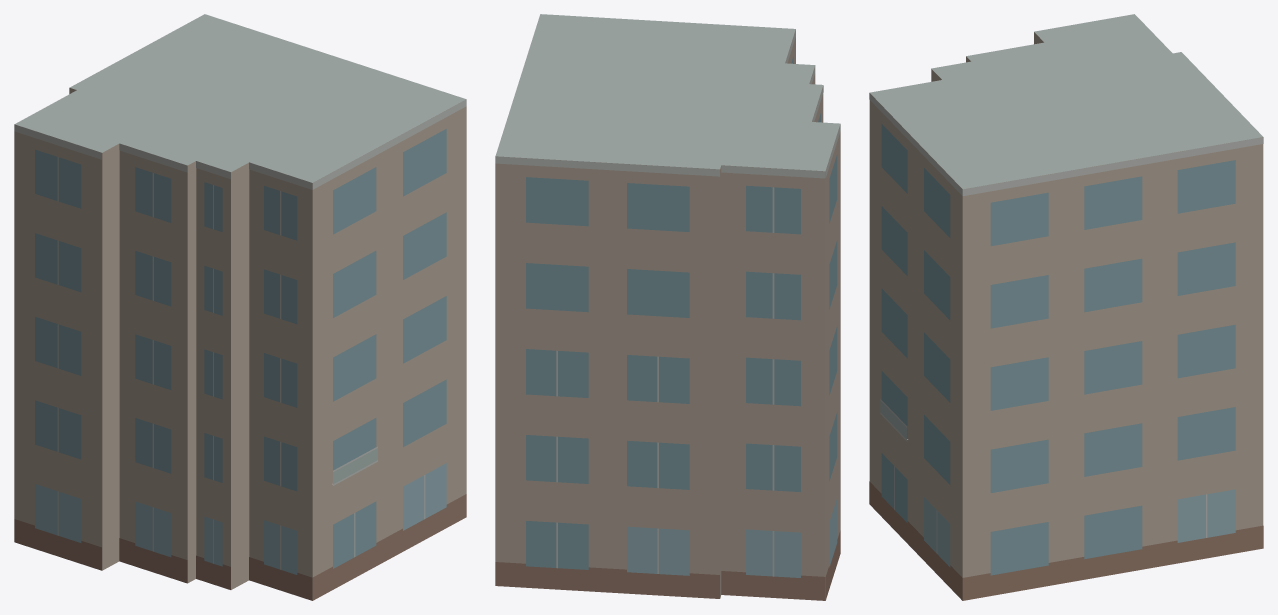
Rendered from survey-upis-33027126.glb.
3 views of the same model, side by side, from view 1: azimuth 30°, elevation 25°; view 2: azimuth 150°, elevation 25°; view 3: azimuth 270°, elevation 25° (orthographic). The views are drawn at different scales.
Visible parts, largest first — view 1: survey-upis-33027126.tmp; view 2: survey-upis-33027126.tmp; view 3: survey-upis-33027126.tmp.
Part boxes in pixels (<box>): survey-upis-33027126.tmp: <box>14,14,466,600</box>; survey-upis-33027126.tmp: <box>495,14,840,600</box>; survey-upis-33027126.tmp: <box>869,14,1263,600</box>.
Bounding box in the file's own units: 13.26 × 14.5 × 12.59.
